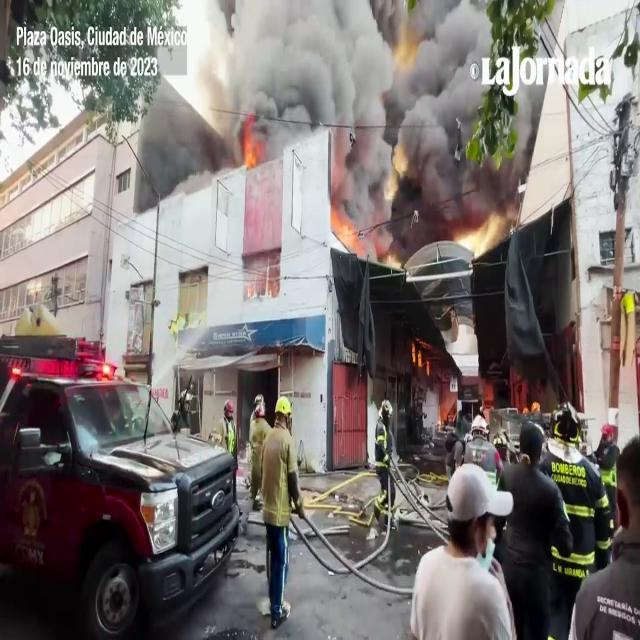Fire: (448, 207, 509, 262), (240, 116, 264, 168)
Smoke: (354, 2, 506, 232), (187, 0, 375, 157), (130, 76, 203, 214)
